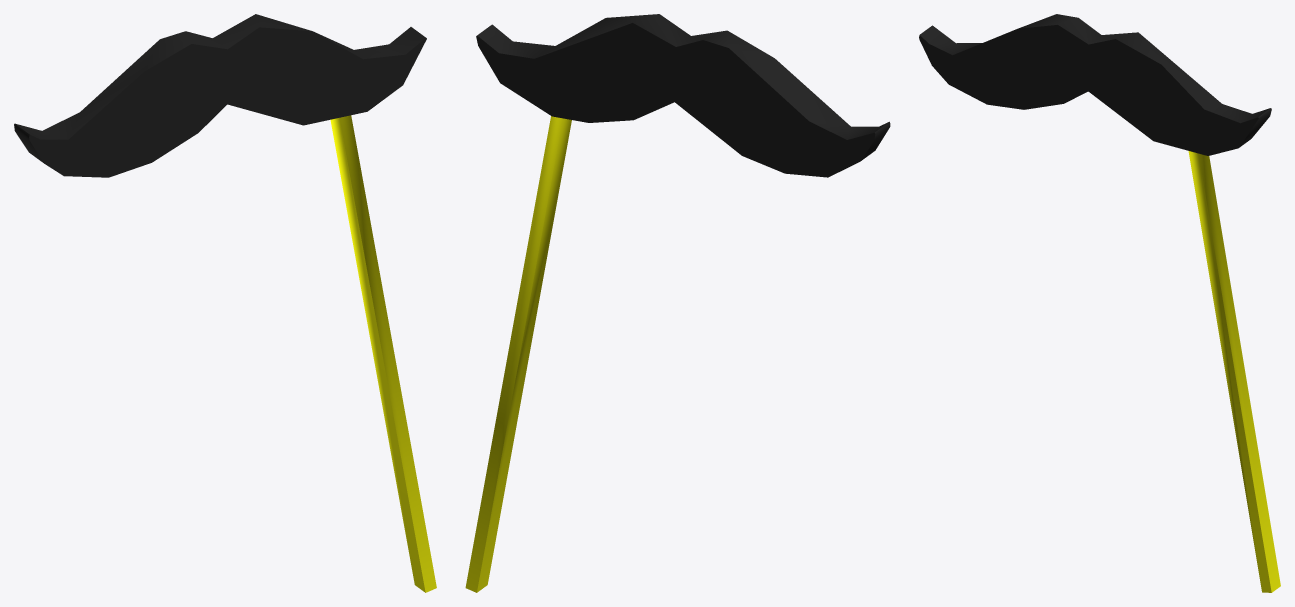
The model's file is moustache_stick.fbx.
3 views of the same model, side by side, from view 1: azimuth 30°, elevation 25°; view 2: azimuth 150°, elevation 25°; view 3: azimuth 330°, elevation 25° (orthographic). The views are drawn at different scales.
Parts seen in each view (by area): view 1: block_4_2_1, Group80_2_1; view 2: block_4_2_1, Group80_2_1; view 3: block_4_2_1, Group80_2_1.
Part boxes in pixels (bbox=[...]): block_4_2_1: bbox=[14, 14, 426, 177]; Group80_2_1: bbox=[330, 115, 436, 592]; block_4_2_1: bbox=[476, 14, 890, 177]; Group80_2_1: bbox=[465, 116, 571, 592]; block_4_2_1: bbox=[919, 14, 1271, 155]; Group80_2_1: bbox=[1188, 151, 1280, 592].
Bounding box in the file's own units: 14.31 × 20.28 × 0.9128.
